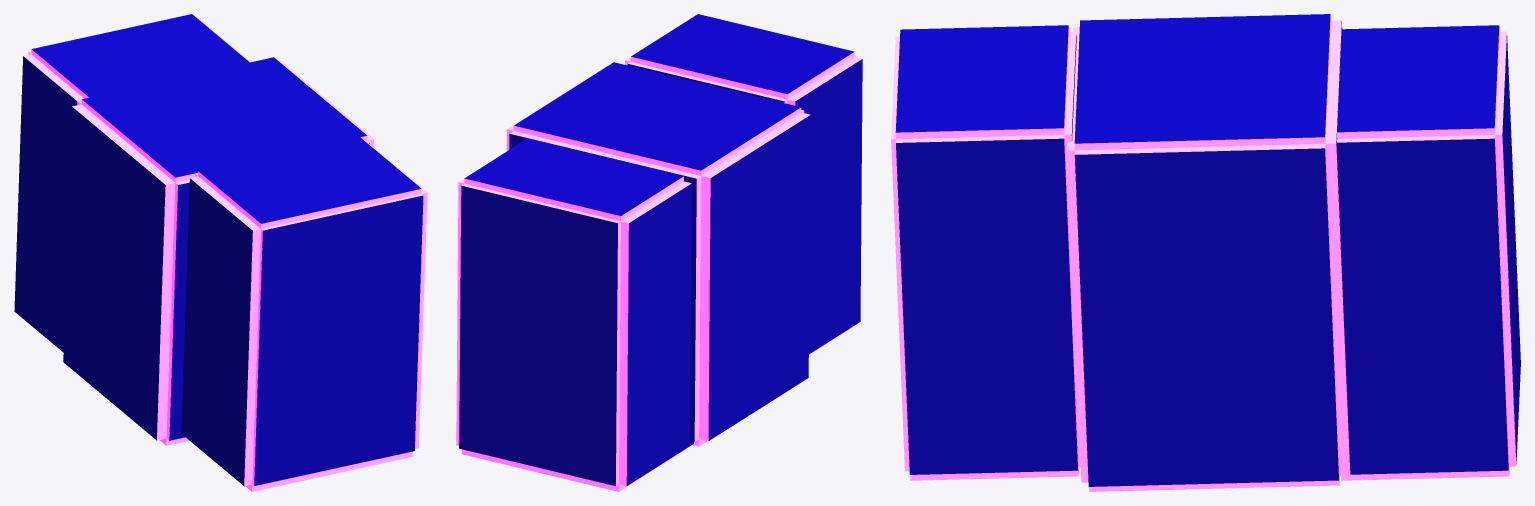
The model's file is enemycolliders_test.glb.
3 views of the same model, side by side, from view 1: azimuth 30°, elevation 25°; view 2: azimuth 150°, elevation 25°; view 3: azimuth 270°, elevation 25° (orthographic). The views are drawn at different scales.
Visible parts, largest first — view 1: right, center, left; view 2: left, center, right; view 3: center, right, left.
Part boxes in pixels (x1,y1,x2,y2): right: [181, 136, 427, 491]; center: [63, 57, 374, 445]; left: [14, 14, 250, 352]; left: [456, 138, 693, 491]; center: [506, 62, 810, 446]; right: [625, 14, 862, 354]; center: [1067, 14, 1350, 491]; right: [891, 25, 1080, 480]; left: [1337, 25, 1520, 480].
Size of what is drawn, in the model's own units: 2.98 by 3.76 by 5.92.
